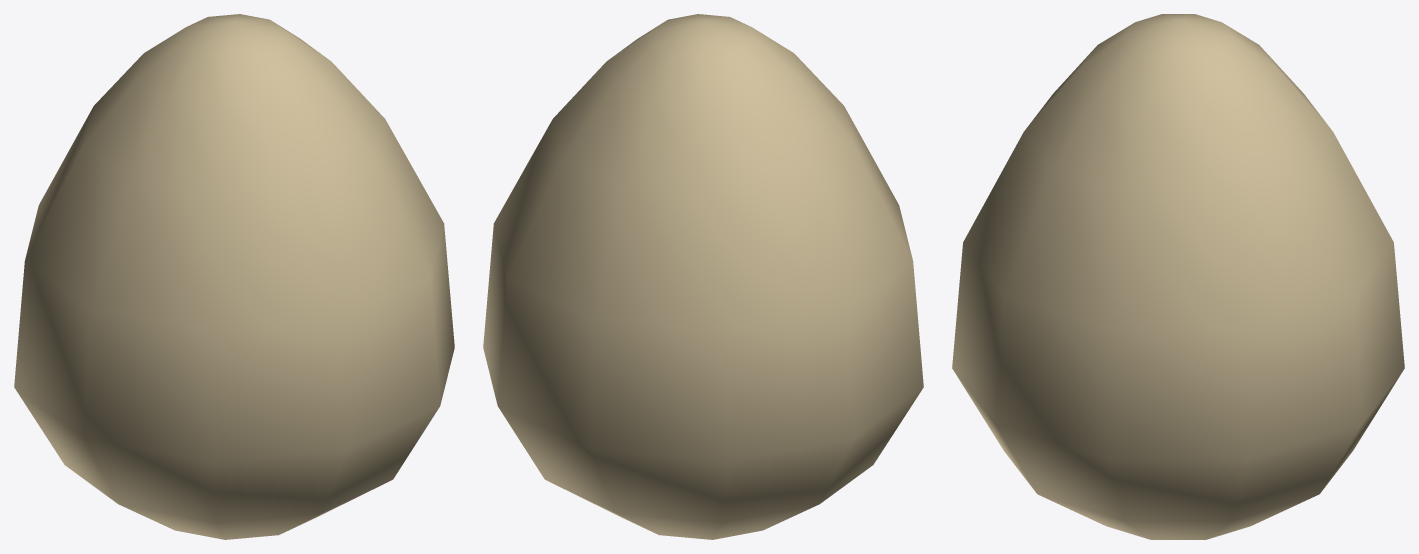
Rendered from egg.fbx.
3 views of the same model, side by side, from view 1: azimuth 30°, elevation 25°; view 2: azimuth 150°, elevation 25°; view 3: azimuth 270°, elevation 25° (orthographic).
Visible parts, largest first — view 1: Sphere; view 2: Sphere; view 3: Sphere.
Boxes of the visible parts, box(x1,y1,x2,y2) form: Sphere: box(14, 14, 454, 539); Sphere: box(483, 14, 923, 539); Sphere: box(952, 14, 1404, 539).
Bounding box in the file's own units: 6.15 × 7.93 × 6.46.
